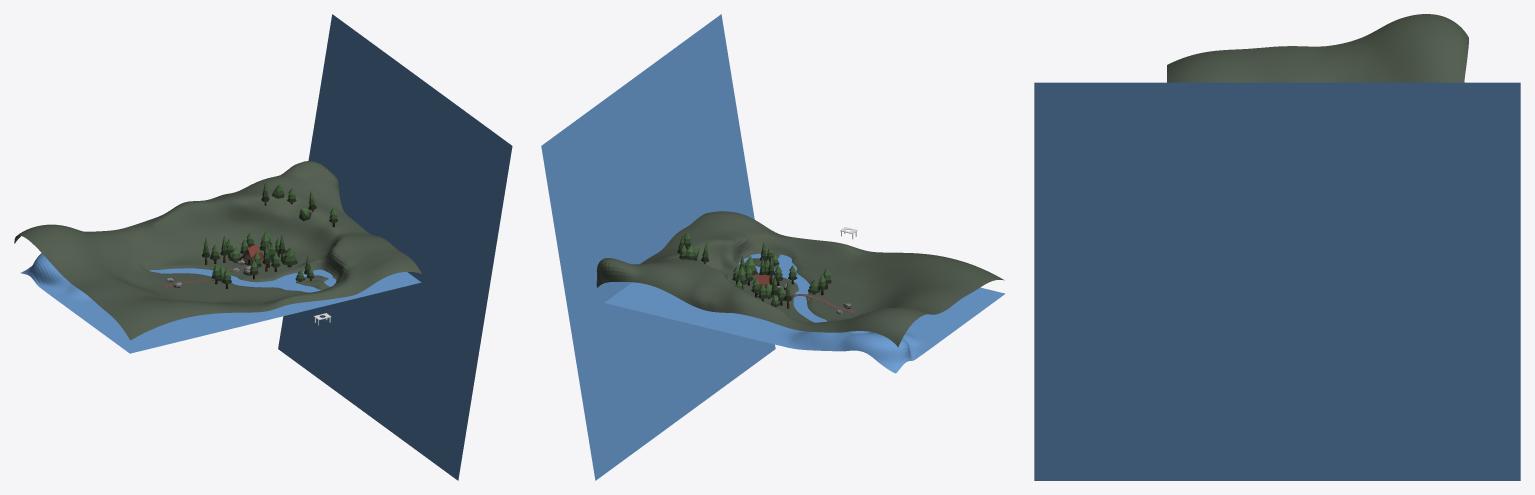
The model's file is LilWorld.fbx.
3 views of the same model, side by side, from view 1: azimuth 30°, elevation 25°; view 2: azimuth 150°, elevation 25°; view 3: azimuth 270°, elevation 25° (orthographic). The views are drawn at different scales.
Parts seen in each view (by area): view 1: Sky plane, Grass, Water; view 2: Sky plane, Grass, Water; view 3: Sky plane, Grass.
Part boxes in pixels (<box>): Sky plane: <box>278,14,512,480</box>; Grass: <box>14,161,421,340</box>; Water: <box>20,253,421,353</box>; Sky plane: <box>541,14,775,480</box>; Grass: <box>596,211,1004,347</box>; Water: <box>604,253,1005,373</box>; Sky plane: <box>1034,82,1520,480</box>; Grass: <box>1167,14,1468,82</box>.
Bounding box in the file's own units: 11984 × 10800 × 10967.
Materials: 11 (11 with a texture image).
